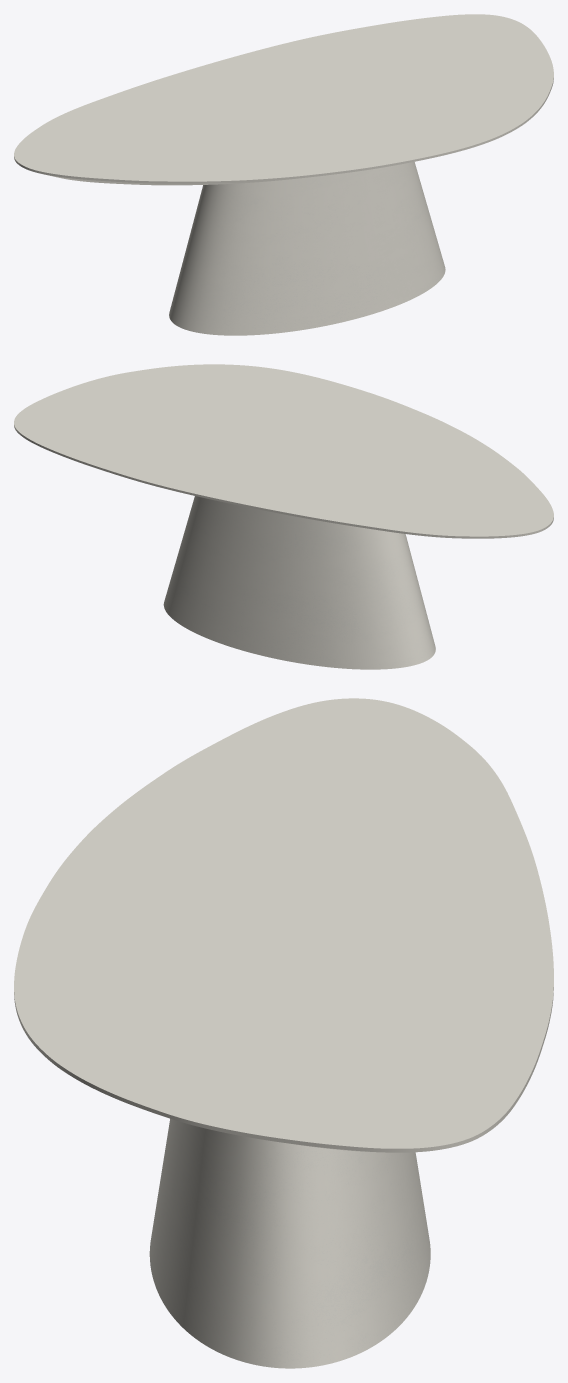
The model's file is pale_pebbletop_facet_eqone.glb.
The picture shows the model from 3 angles, top to bottom: view 1: azimuth 30°, elevation 25°; view 2: azimuth 150°, elevation 25°; view 3: azimuth 270°, elevation 25°; orthographic projection. The views are drawn at different scales.
Visible parts, largest first — view 1: facet_pebbletop, eqone; view 2: facet_pebbletop, eqone; view 3: facet_pebbletop, eqone.
Part boxes in pixels (<box>): facet_pebbletop: <box>14,14,553,185</box>; eqone: <box>169,162,445,335</box>; facet_pebbletop: <box>14,364,553,538</box>; eqone: <box>163,496,435,669</box>; facet_pebbletop: <box>14,698,553,1152</box>; eqone: <box>149,1118,430,1368</box>.
Size of the model in its own units: 7.5 by 2.5 by 3.8.
1 material, 1 textured.
